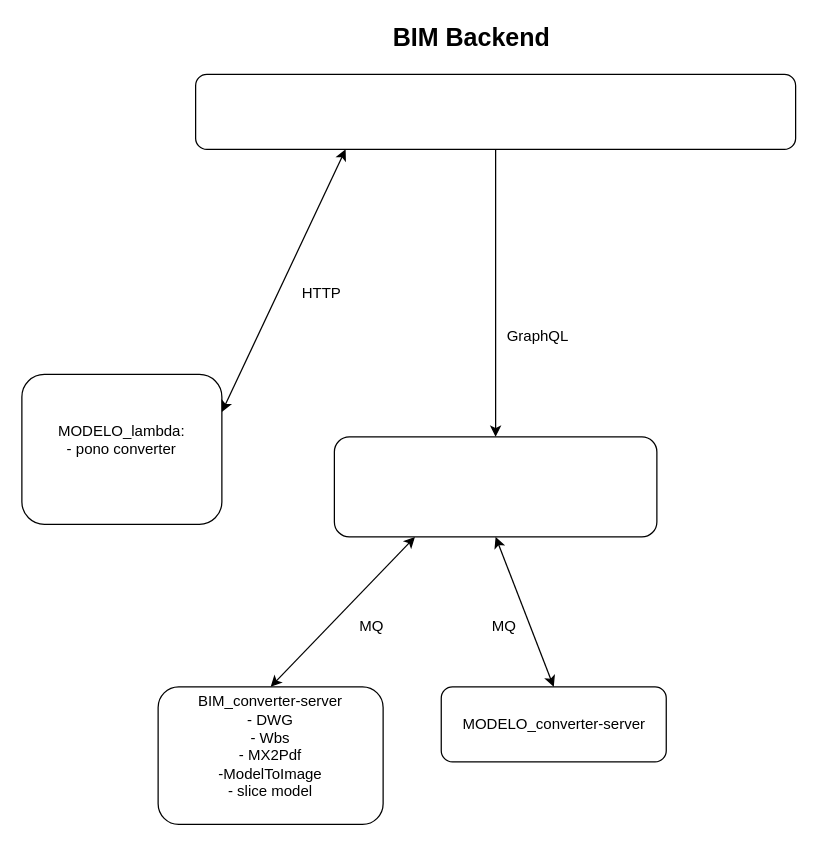
This 818x846 diagram has some shape labels left out. Each missing label, with the centre of its shape:
"BIM_backend" belongs at point 495,486.
"Frontend: BIM API; China Life;" belongs at point 495,111.
